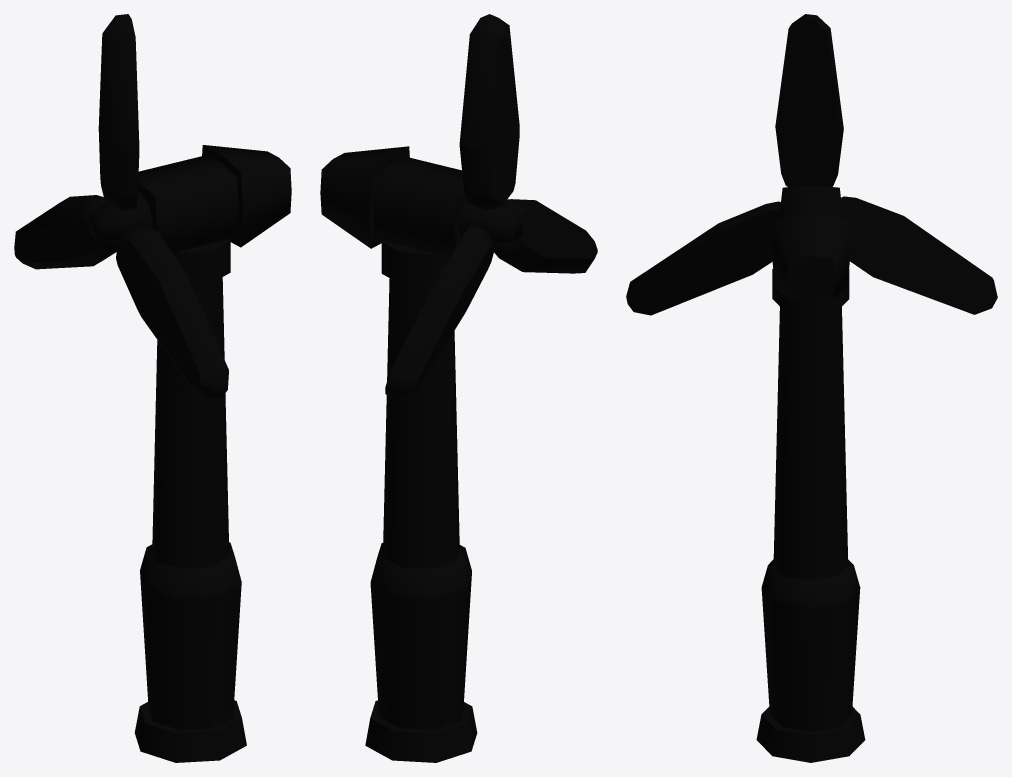
File: windmill.glb
The picture shows the model from 3 angles, left to right: view 1: azimuth 30°, elevation 25°; view 2: azimuth 150°, elevation 25°; view 3: azimuth 270°, elevation 25°; orthographic projection. The views are drawn at different scales.
Visible parts, largest first — view 1: windmill; view 2: windmill; view 3: windmill.
Boxes of the visible parts, x1,y1,x2,y2 form: windmill: (14,14,291,762); windmill: (320,14,597,762); windmill: (626,14,997,762).
Bounding box in the file's own units: 0.6048 × 2.31 × 1.13.
1 material, 1 textured.
